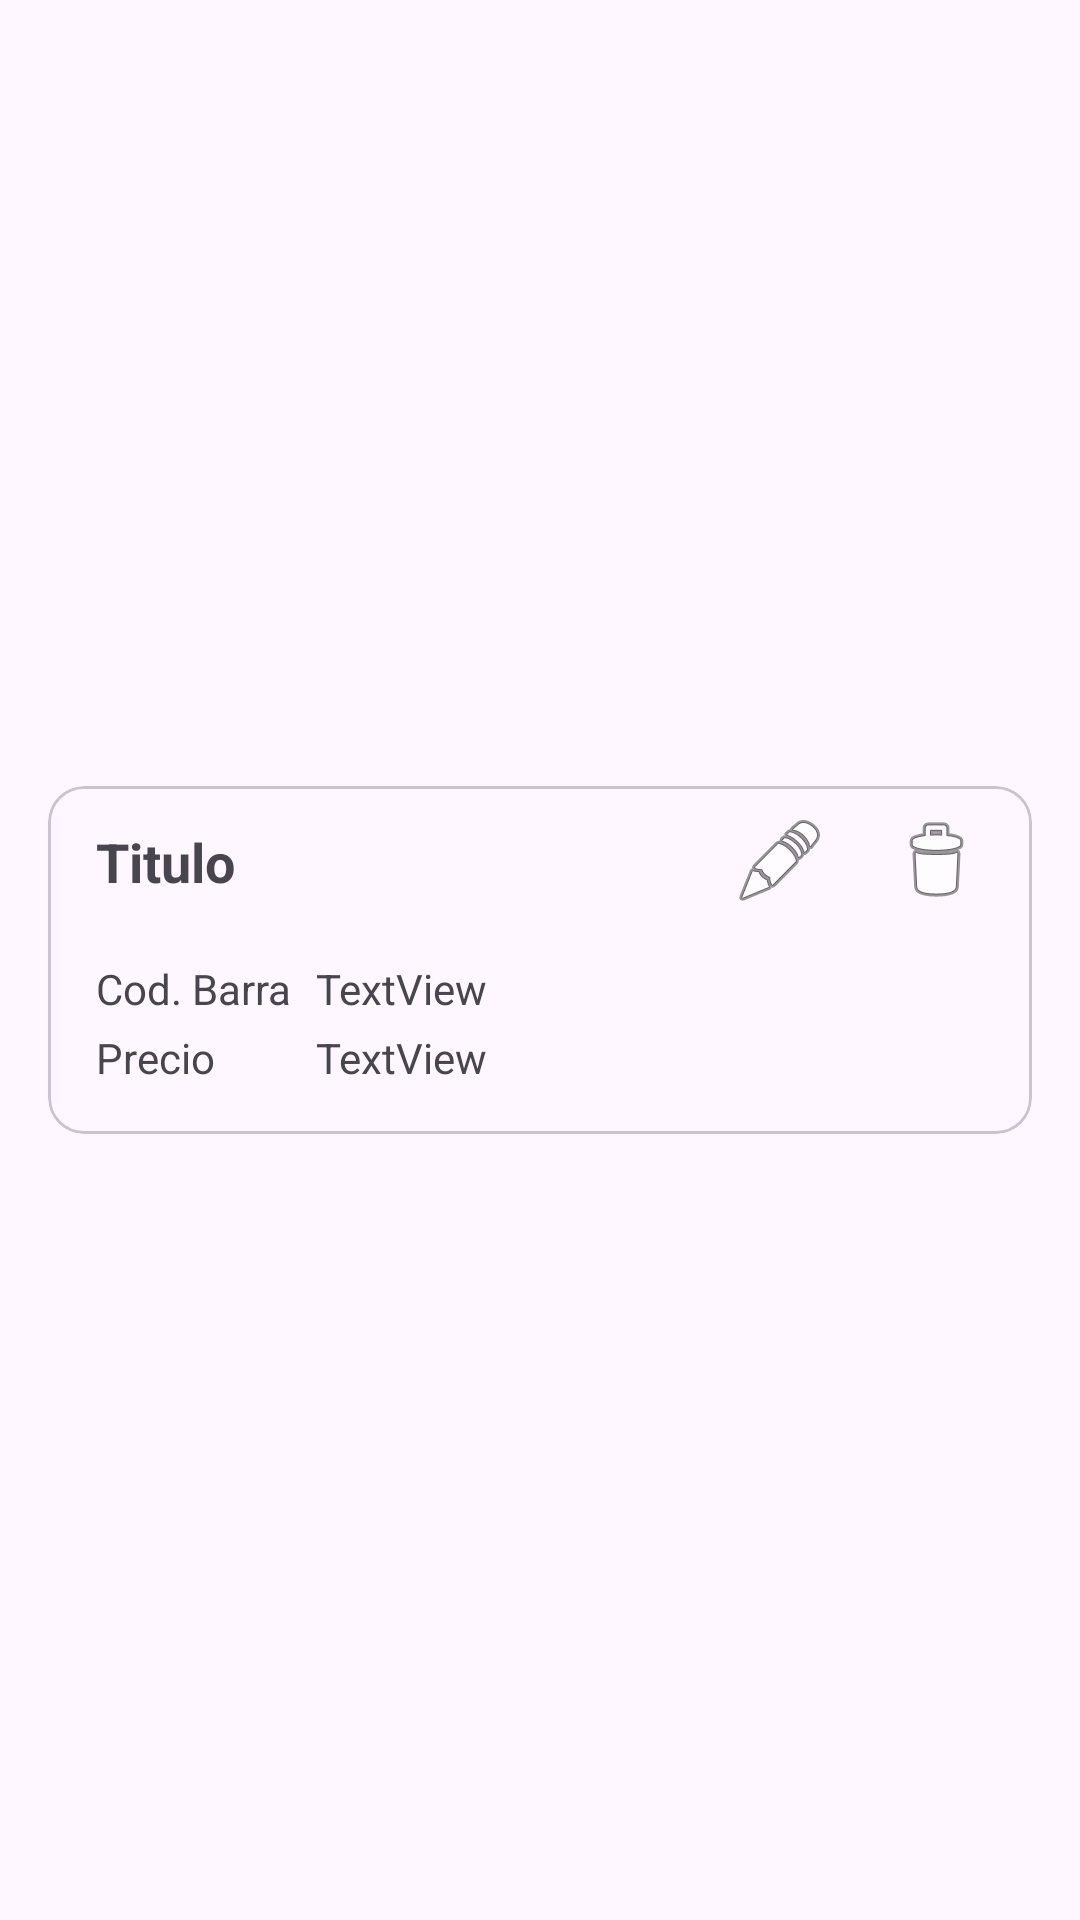

Point at icon controls on the screen. Image size 1080 x 1920, points as [x,y].
delete: [936,859]
edit: [779,860]
